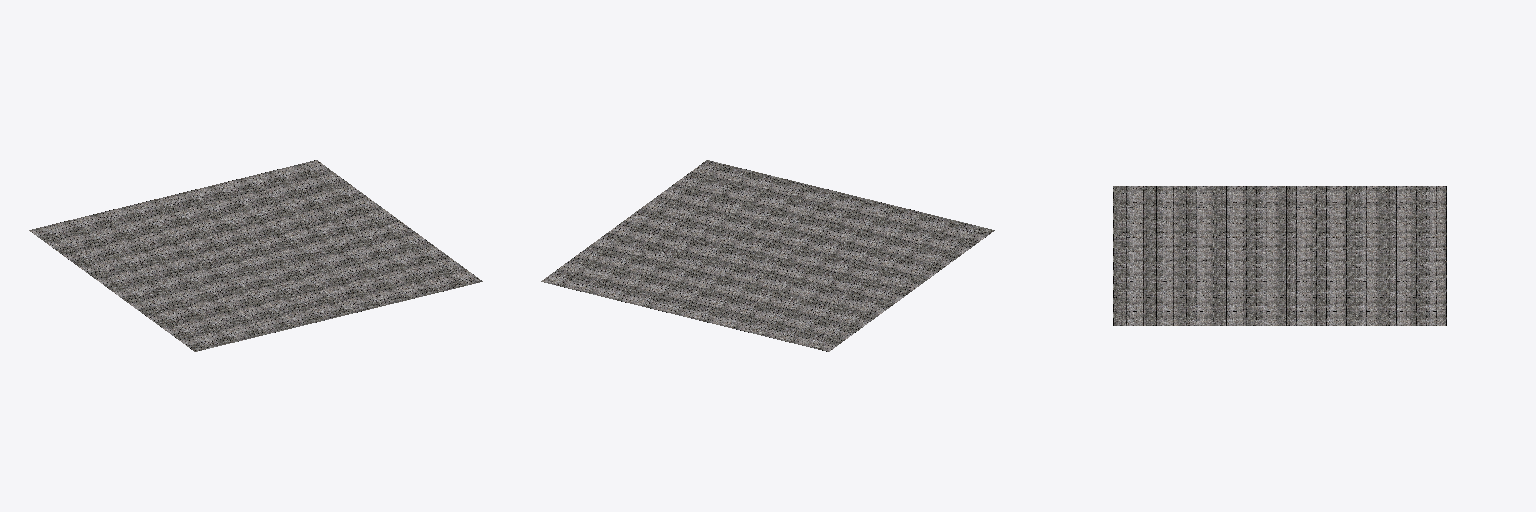
3 views of the same model, side by side, from view 1: azimuth 30°, elevation 25°; view 2: azimuth 150°, elevation 25°; view 3: azimuth 270°, elevation 25° (orthographic).
Visible parts, largest first — view 1: Plane; view 2: Plane; view 3: Plane.
Part boxes in pixels (x1,y1,x2,y2): Plane: (29, 160, 482, 351); Plane: (541, 160, 994, 351); Plane: (1113, 186, 1446, 325).
Size of the model in its own units: 400 by 0 by 400.
1 materials, 1 textured.